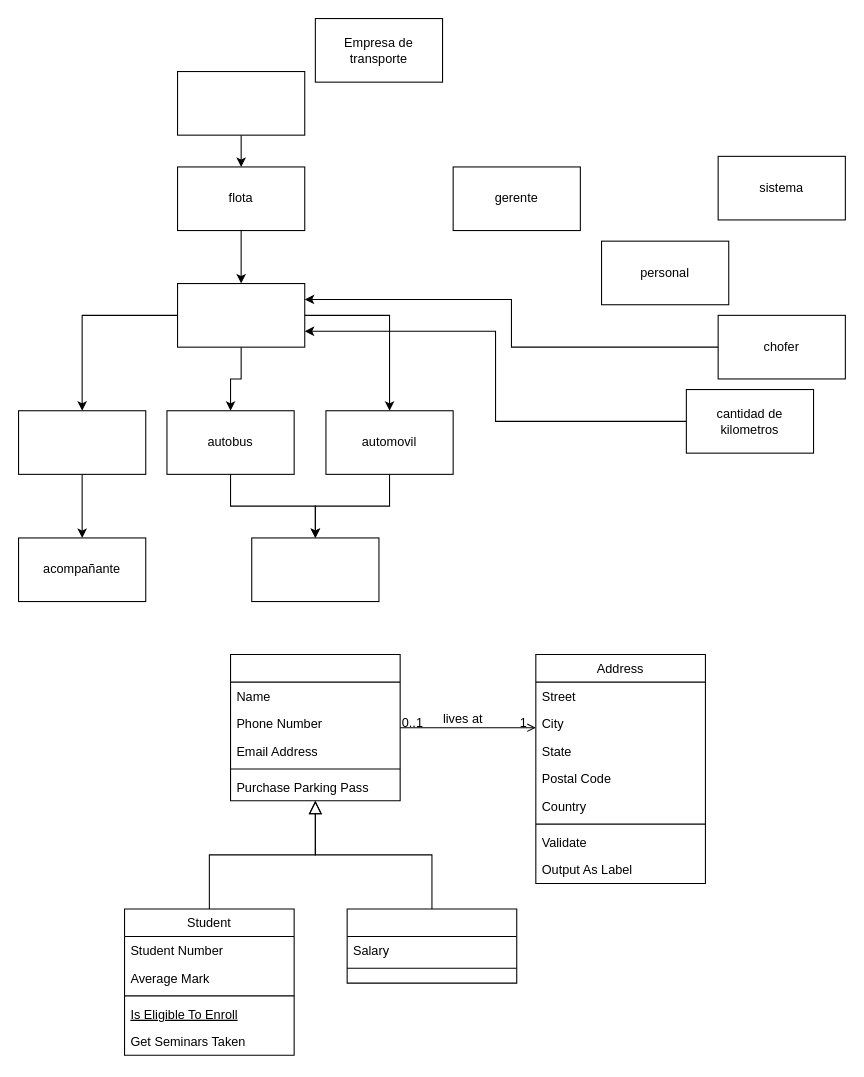
The diagram is 864 pixels wide and 1077 high, and some of its shapes have lost their labels. The shapes that lost their labels are listed below. From the top down, each one's box as (x1, y1, x2, y2) in pixels, then its label:
(176, 70, 305, 135): Empresa
(176, 282, 305, 347): vehiculos
(17, 410, 146, 474): motocicleta
(251, 537, 379, 602): pasajeros
(229, 653, 400, 801): Person
(346, 908, 517, 983): Professor
